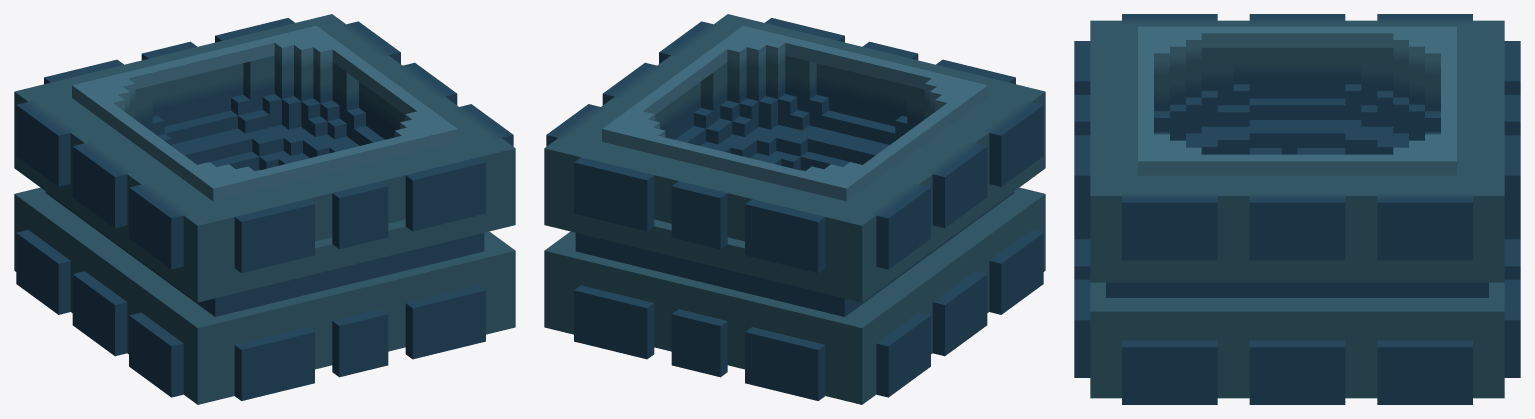
File: podium_blue.fbx
3 views of the same model, side by side, from view 1: azimuth 30°, elevation 25°; view 2: azimuth 150°, elevation 25°; view 3: azimuth 270°, elevation 25° (orthographic). The views are drawn at different scales.
Visible parts, largest first — view 1: podium_blue; view 2: podium_blue; view 3: podium_blue.
Boxes of the visible parts, x1,y1,x2,y2 form: podium_blue: (14, 14, 515, 404); podium_blue: (544, 14, 1045, 404); podium_blue: (1074, 14, 1520, 404).
Bounding box in the file's own units: 28 × 15 × 28.
Materials: 1 (1 with a texture image).
